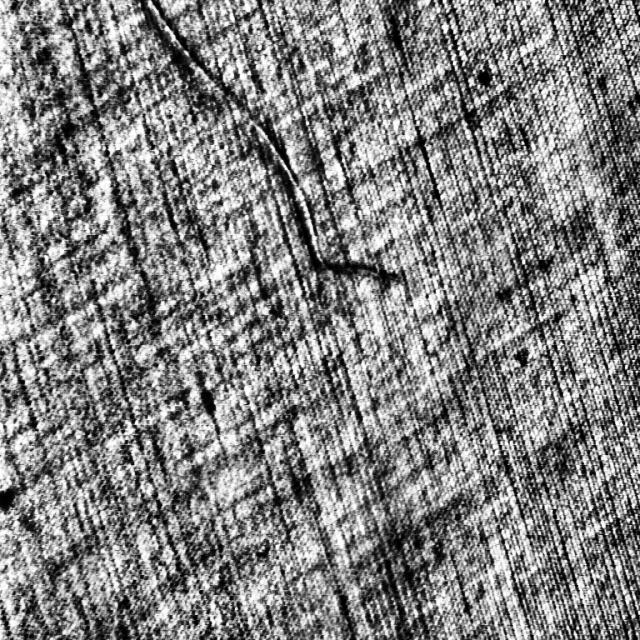Stitch: (138, 0, 407, 318)
